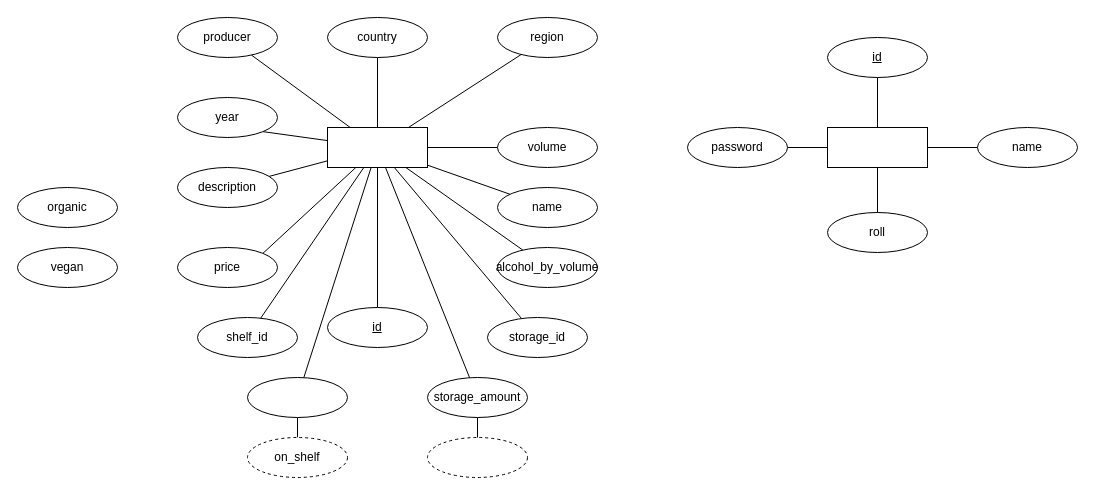
Image size: 1095x495. Some labels were removed from this diagram. The shapes that lost their labels are listed below. From the top down, each one's centre as x and y in pixels, then its label:
[377,147]: BEVERAGE
[877,147]: User
[297,397]: shelf_amount
[477,457]: in_storage
